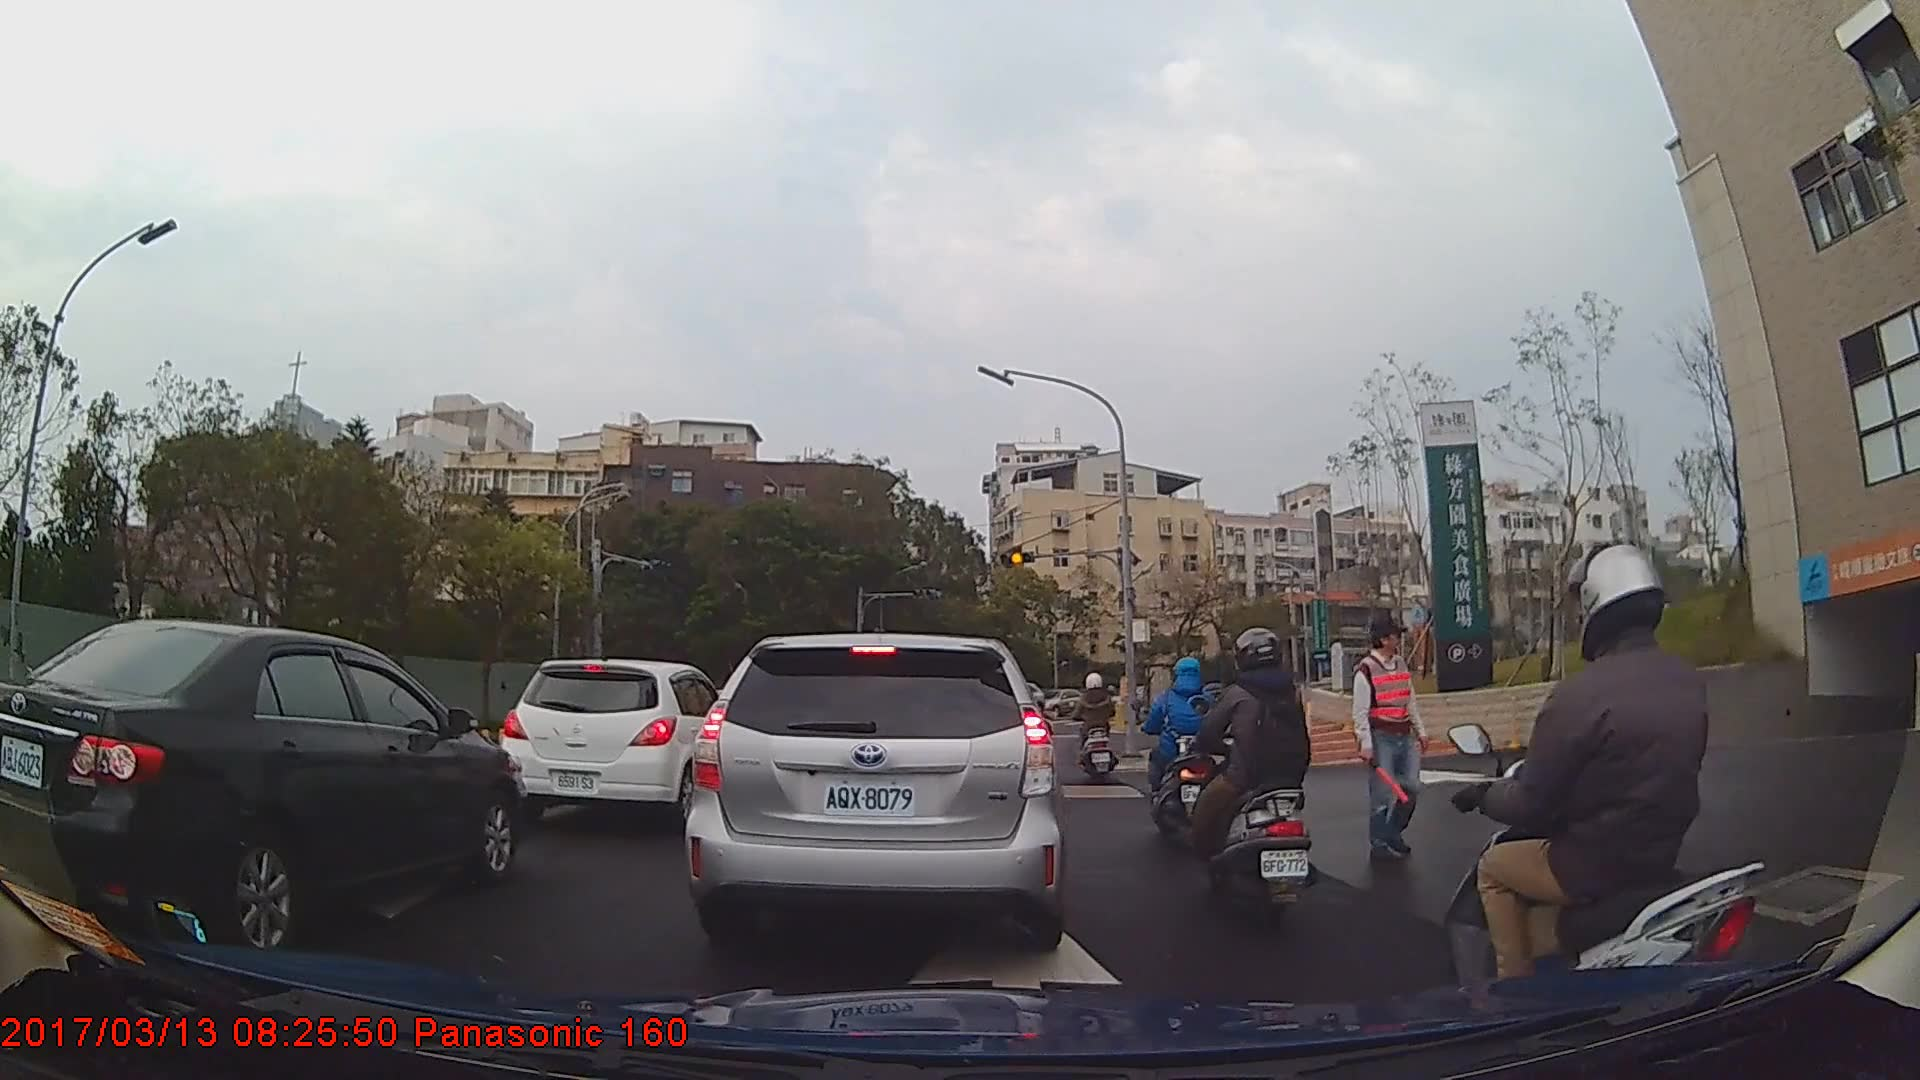pedestrian: (1352, 613, 1437, 868)
rider: (1433, 539, 1768, 1061), (1190, 624, 1318, 922), (1138, 656, 1214, 844), (1071, 670, 1120, 784)
vehicle: (0, 614, 527, 956), (682, 631, 1065, 953), (498, 656, 729, 825)
